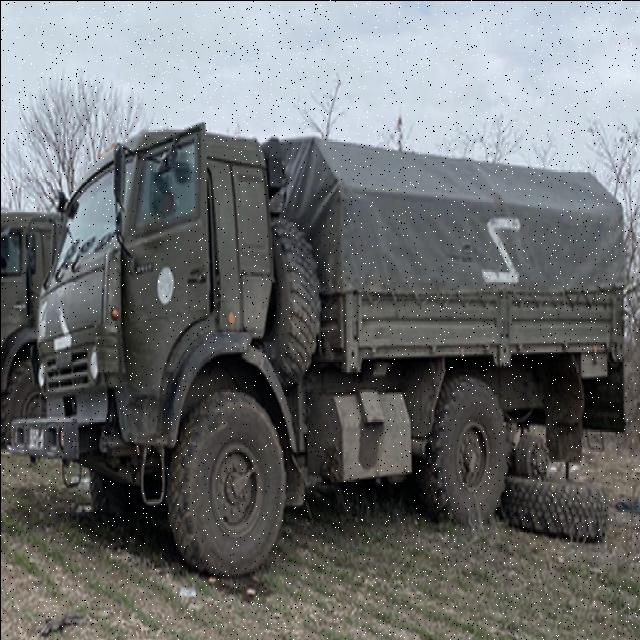TRUCK: (35, 118, 630, 582)
